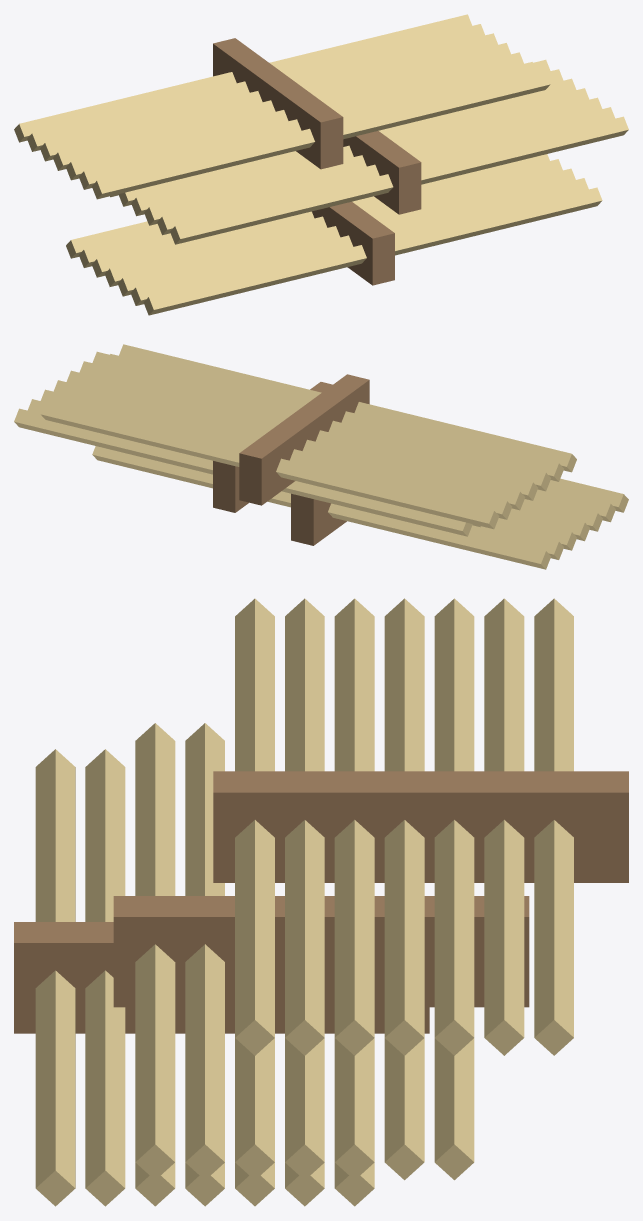
Rendered from item_032_flax_fibre_m.glb.
The picture shows the model from 3 angles, top to bottom: view 1: azimuth 30°, elevation 25°; view 2: azimuth 150°, elevation 25°; view 3: azimuth 270°, elevation 25°; orthographic projection. The views are drawn at different scales.
Visible parts, largest first — view 1: item_032_flax_fibre_m; view 2: item_032_flax_fibre_m; view 3: item_032_flax_fibre_m.
Boxes of the visible parts, x1,y1,x2,y2 form: item_032_flax_fibre_m: (14,14,628,315); item_032_flax_fibre_m: (14,344,628,569); item_032_flax_fibre_m: (14,598,628,1206).
Size of the model in its own units: 0.67 by 0.16 by 0.37.
